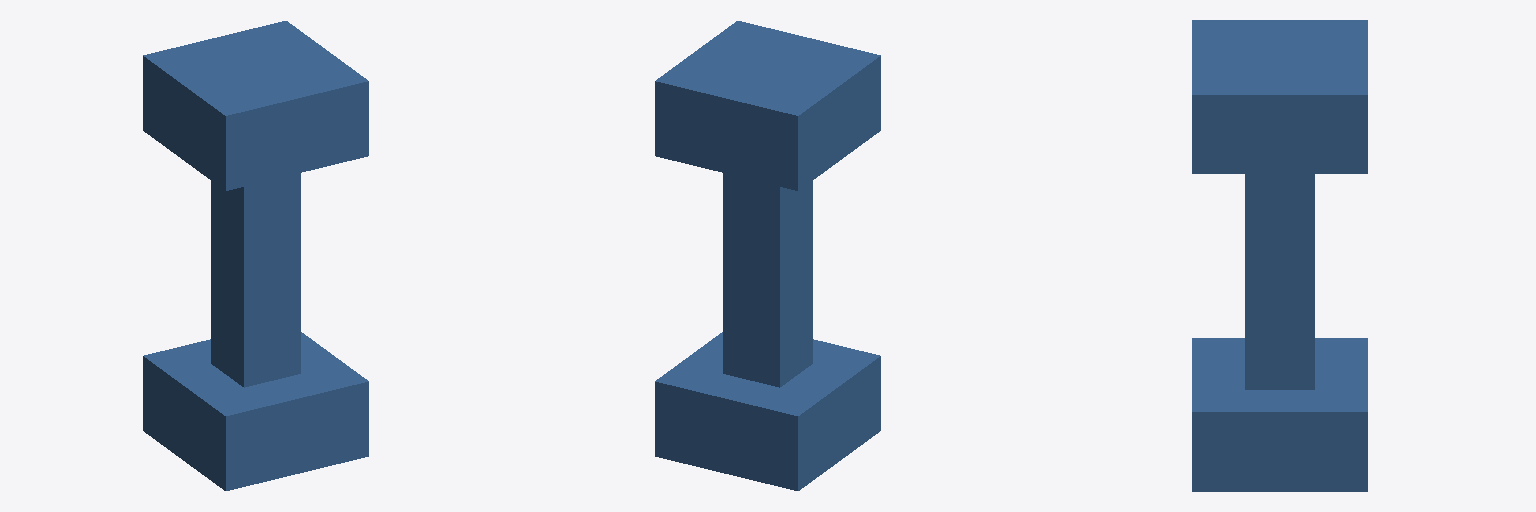
robot.urdf — dumbbell.urdf:
<?xml version="0.0" ?>
<robot name="dumbbell.urdf">
  <link name="baseLink">
    <contact>
      <lateral_friction value="1.0"/>
      <rolling_friction value="0.0001"/>
      <inertia_scaling value="3.0"/>
    </contact>
    <inertial>
      <origin rpy="0 0 0" xyz="0 0 0"/>
       <mass value=".1"/>
       <inertia ixx="1" ixy="0" ixz="0" iyy="1" iyz="0" izz="1"/>
    </inertial>
    <visual>
      <origin rpy="0 0 0" xyz="0 0 0"/>
      <geometry>
        <box size=".02 .02 .12"/>
      </geometry>
      <material name="green">
        <color rgba="0.3059 0.4745 0.6549 1"/>
      </material>
    </visual>
    <visual>
      <origin rpy="0 0 0" xyz="0 0 0.05"/>
      <geometry>
        <box size=".05 .05 .025"/>
      </geometry>
      <material name="green">
        <color rgba="0.3059 0.4745 0.6549 1"/>
      </material>
    </visual>
    <visual>
      <origin rpy="0 0 0" xyz="0 0 -0.05"/>
      <geometry>
        <box size=".05 .05 .025"/>
      </geometry>
      <material name="green">
        <color rgba="0.3059 0.4745 0.6549 1"/>
      </material>
    </visual>
    <collision>
      <origin rpy="0 0 0" xyz="0 0 0"/>
      <geometry>
        <box size=".02 .02 .12"/>
      </geometry>
    </collision>
    <collision>
      <origin rpy="0 0 0" xyz="0 0 0.05"/>
      <geometry>
        <box size=".05 .05 .025"/>
      </geometry>
    </collision>
    <collision>
      <origin rpy="0 0 0" xyz="0 0 -0.05"/>
      <geometry>
        <box size=".05 .05 .025"/>
      </geometry>
    </collision>
  </link>
</robot>

--- Facts derived from the render (not from the file) ---
Views: 3 orthographic renders of the robot side by side, from view 1: azimuth 30°, elevation 25°; view 2: azimuth 150°, elevation 25°; view 3: azimuth 270°, elevation 25°.
Robot: dumbbell.urdf — 1 links, 0 joints (none); root link baseLink; default pose: all joints at 0.
Links seen in each view (by area): view 1: baseLink; view 2: baseLink; view 3: baseLink.
Link boxes in pixels (box(x1,y1,x2,y2)): baseLink: box(143, 21, 368, 490); baseLink: box(655, 21, 880, 490); baseLink: box(1192, 20, 1367, 491).
Bounding box of the posed robot: 0.05 × 0.05 × 0.125 m (x, y, z).
Geometry: primitives only (box / cylinder / sphere), no mesh files.